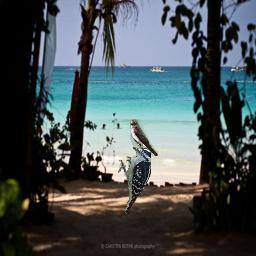Swallow: (130, 119, 158, 156)
Woodpecker: (118, 146, 155, 217)
